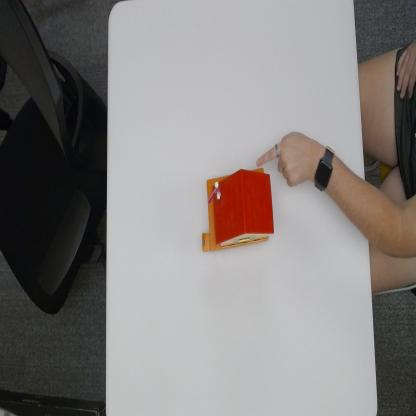Arm: (335, 156, 369, 242)
Hand: (255, 128, 314, 194)
House: (203, 172, 276, 248)
